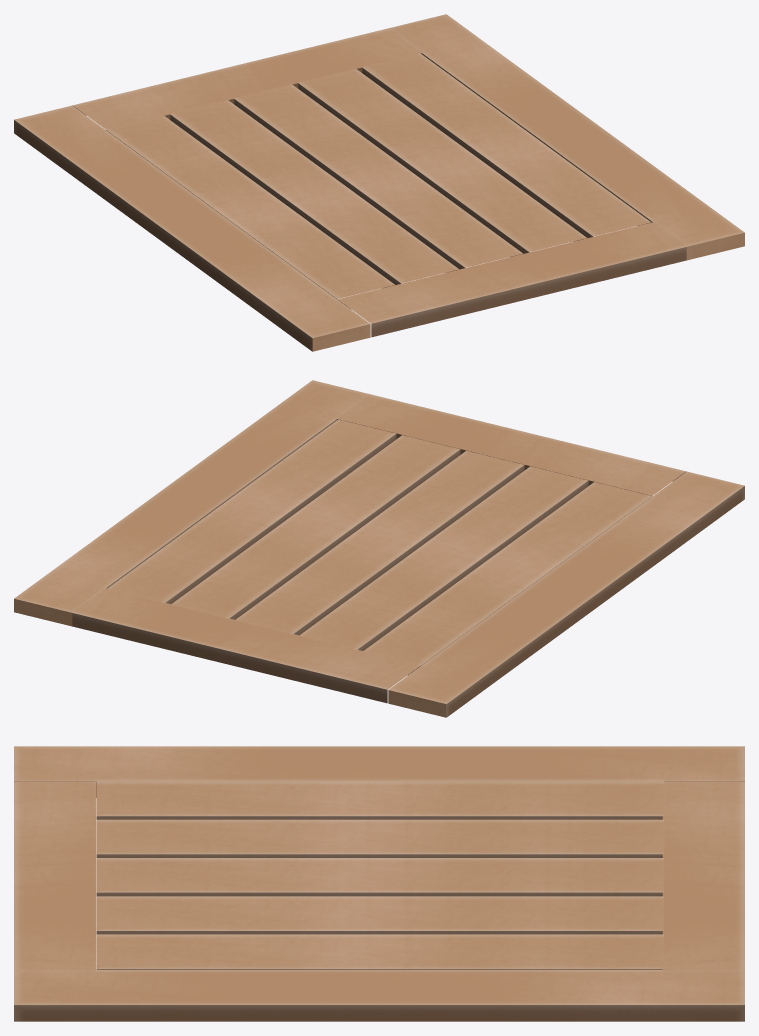
The model's file is floor_decor_4.fbx.
The picture shows the model from 3 angles, top to bottom: view 1: azimuth 30°, elevation 25°; view 2: azimuth 150°, elevation 25°; view 3: azimuth 270°, elevation 25°; orthographic projection. The views are drawn at different scales.
Parts seen in each view (by area): view 1: Cube.003, Cube.017, Cube.016, Cube.018; view 2: Cube.003, Cube.017, Cube.016, Cube.018; view 3: Cube.003, Cube.018, Cube.017, Cube.016.
Part boxes in pixels (x1=…): Cube.003: x1=106, y1=53, x2=651, y2=298; Cube.017: x1=72, y1=28, x2=687, y2=337; Cube.016: x1=14, y1=105, x2=370, y2=351; Cube.018: x1=389, y1=14, x2=744, y2=260; Cube.003: x1=107, y1=419, x2=652, y2=665; Cube.017: x1=71, y1=394, x2=686, y2=703; Cube.016: x1=388, y1=471, x2=744, y2=717; Cube.018: x1=14, y1=380, x2=369, y2=626; Cube.003: x1=96, y1=781, x2=663, y2=969; Cube.018: x1=14, y1=970, x2=744, y2=1021; Cube.017: x1=14, y1=781, x2=744, y2=970; Cube.016: x1=14, y1=746, x2=744, y2=797.
Bounding box in the file's own units: 2.31 × 0.0695 × 2.76.
